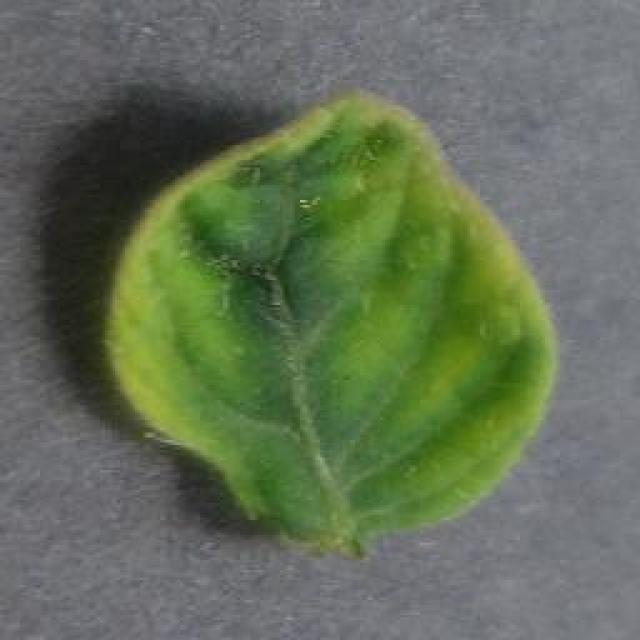Tomato yellow virus leaf: (104, 90, 560, 554)
